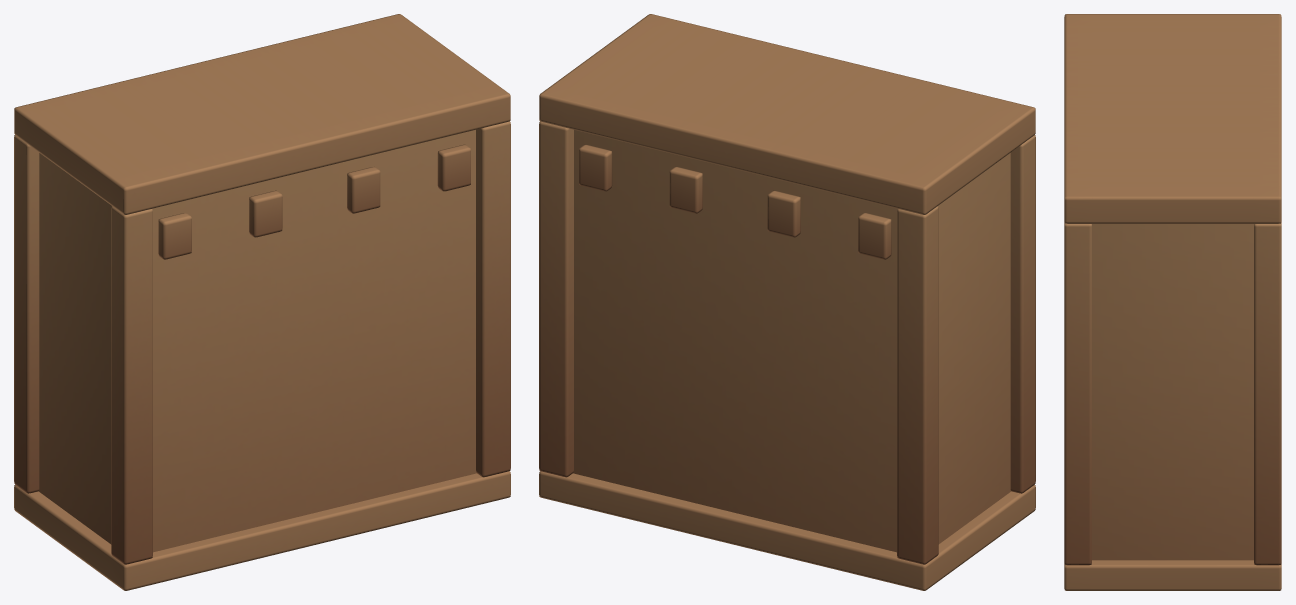
Rendered from SM_Clay_Body_03.fbx.
3 renders of one model, left to right at view 1: azimuth 30°, elevation 25°; view 2: azimuth 150°, elevation 25°; view 3: azimuth 270°, elevation 25°, orthographic. The views are drawn at different scales.
Visible parts, largest first — view 1: SM_Clay_Body_03; view 2: SM_Clay_Body_03; view 3: SM_Clay_Body_03.
Boxes of the visible parts, box(x1,y1,x2,y2) form: SM_Clay_Body_03: box(14, 14, 510, 590); SM_Clay_Body_03: box(539, 14, 1035, 590); SM_Clay_Body_03: box(1064, 14, 1281, 590).
Size of the model in its own units: 2 by 2 by 1.
1 material, 1 textured.
